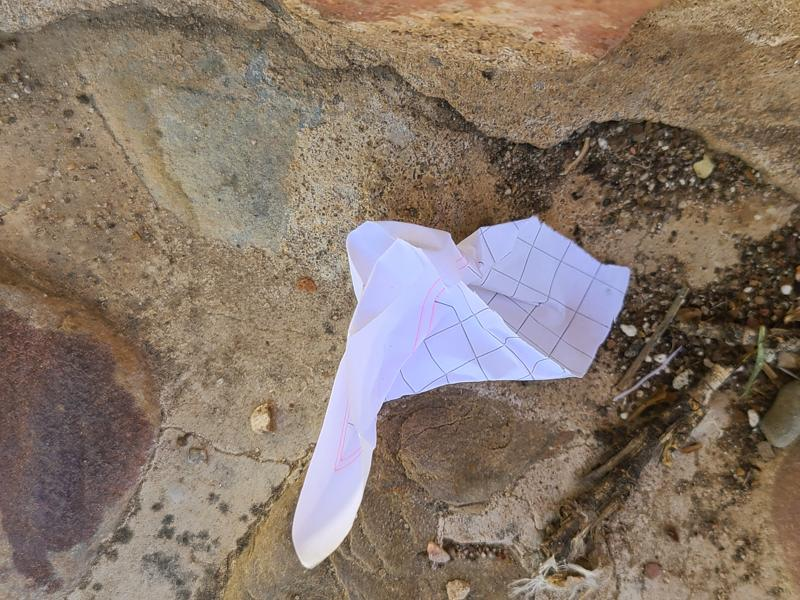papel: (291, 216, 631, 571)
